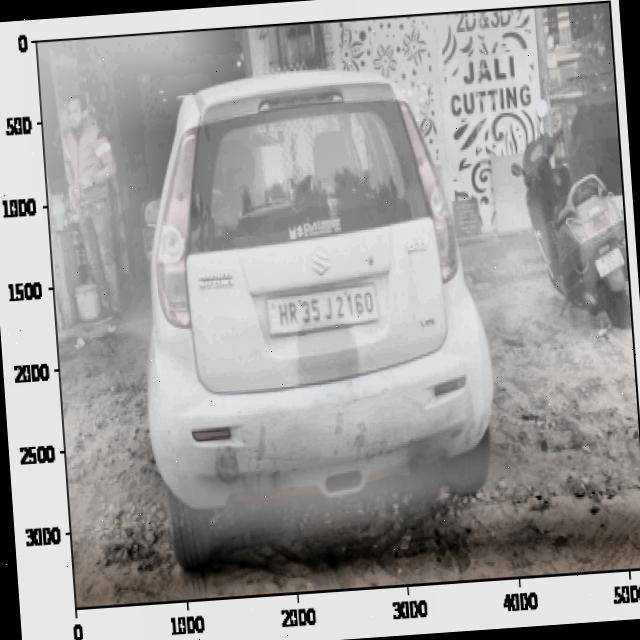license_plate: (271, 284, 380, 334)
